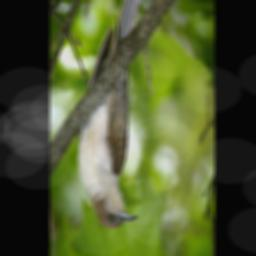Cuckoo: (76, 0, 151, 230)
